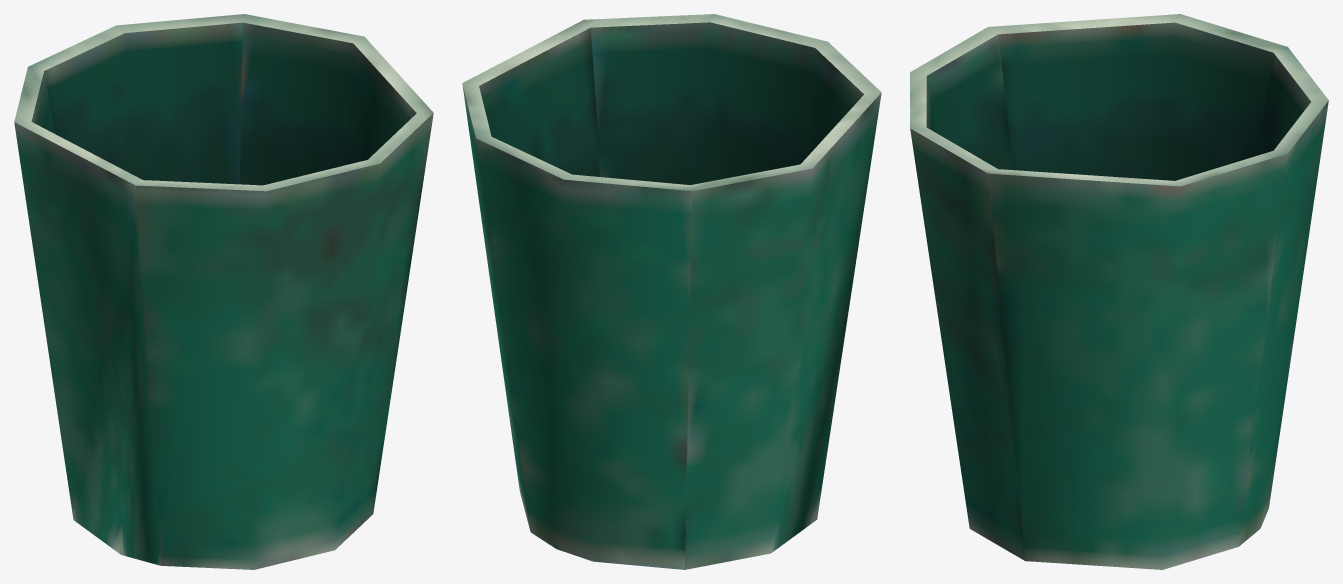
File: junk_10-v1.glb
3 views of the same model, side by side, from view 1: azimuth 30°, elevation 25°; view 2: azimuth 150°, elevation 25°; view 3: azimuth 270°, elevation 25° (orthographic).
Parts seen in each view (by area): view 1: junk_10; view 2: junk_10; view 3: junk_10.
Boxes of the visible parts, box(x1,y1,x2,y2) form: junk_10: box(14, 14, 433, 569); junk_10: box(462, 14, 881, 569); junk_10: box(910, 14, 1328, 569).
Bounding box in the file's own units: 1.16 × 1.28 × 1.19.
Materials: 1 (1 with a texture image).
